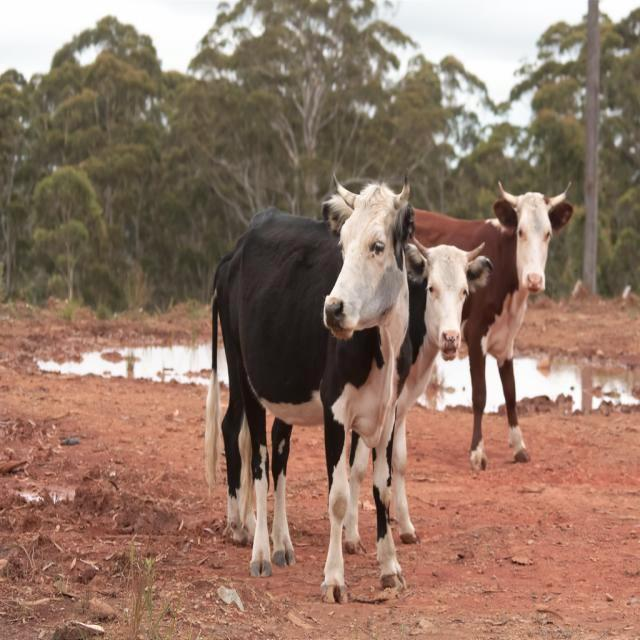cow: (206, 184, 418, 602), (415, 185, 572, 469), (392, 240, 491, 539)
